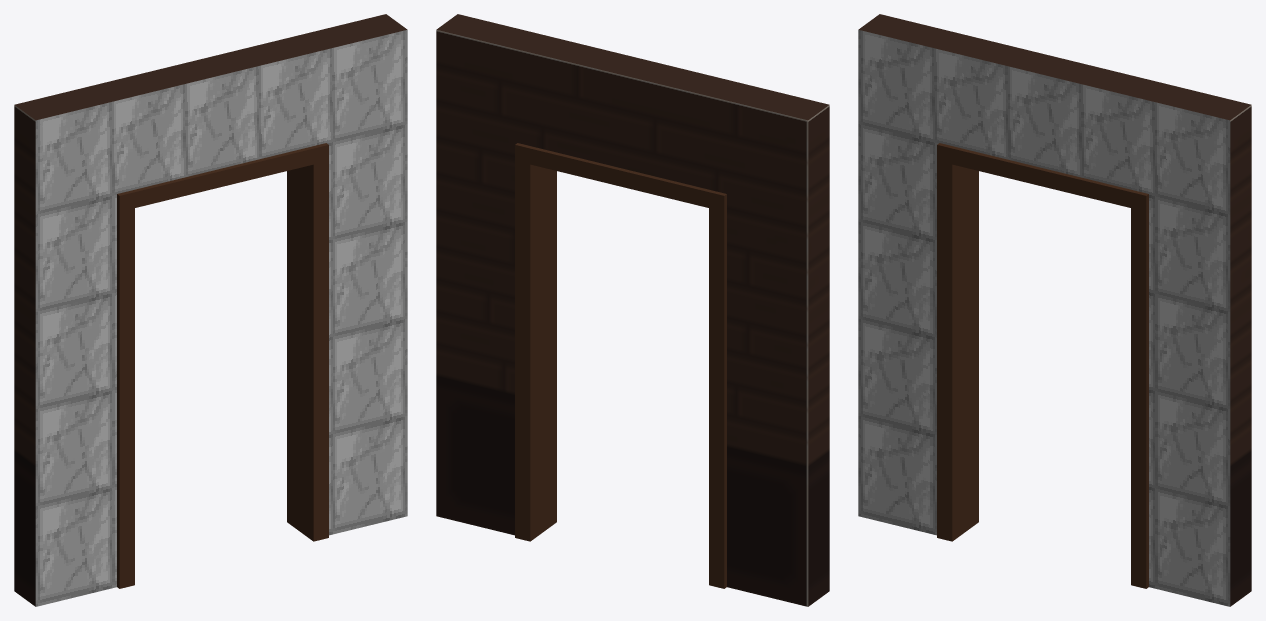
File: Internal Door_wall_toilet.fbx
The picture shows the model from 3 angles, left to right: view 1: azimuth 30°, elevation 25°; view 2: azimuth 150°, elevation 25°; view 3: azimuth 330°, elevation 25°; orthographic projection.
Visible parts, largest first — view 1: Door_wall_toilet; view 2: Door_wall_toilet; view 3: Door_wall_toilet.
Part boxes in pixels (bbox=[...]): Door_wall_toilet: bbox=[14, 14, 407, 606]; Door_wall_toilet: bbox=[436, 14, 829, 606]; Door_wall_toilet: bbox=[858, 14, 1251, 606].
Size of the model in its own units: 2 by 2.5 by 0.2472.
